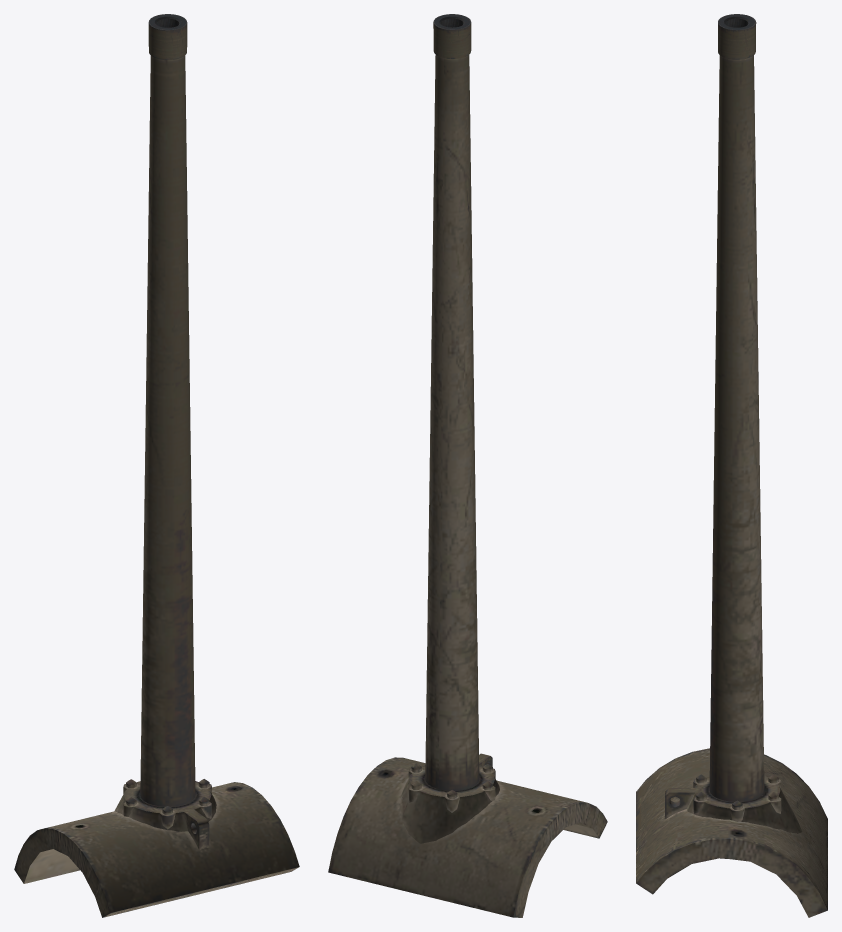
File: Gun_03.glb
3 renders of one model, left to right at view 1: azimuth 30°, elevation 25°; view 2: azimuth 150°, elevation 25°; view 3: azimuth 270°, elevation 25°, orthographic. The views are drawn at different scales.
Visible parts, largest first — view 1: set_0_group_0; view 2: set_0_group_0; view 3: set_0_group_0.
Boxes of the visible parts, bbox=[...] form: set_0_group_0: bbox=[14, 14, 299, 917]; set_0_group_0: bbox=[328, 14, 607, 917]; set_0_group_0: bbox=[636, 14, 827, 917].
Bounding box in the file's own units: 0.8137 × 3.55 × 0.7195.
Materials: 1 (1 with a texture image).
